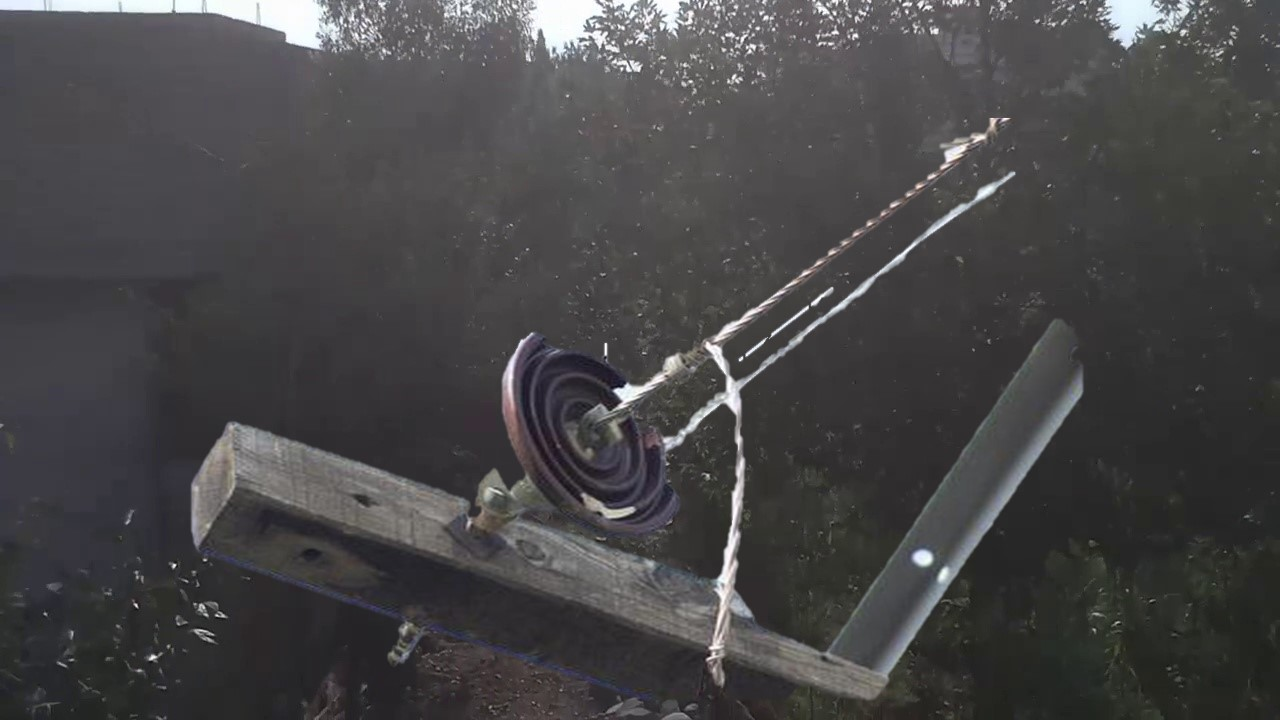defect_disc: (492, 323, 689, 547)
